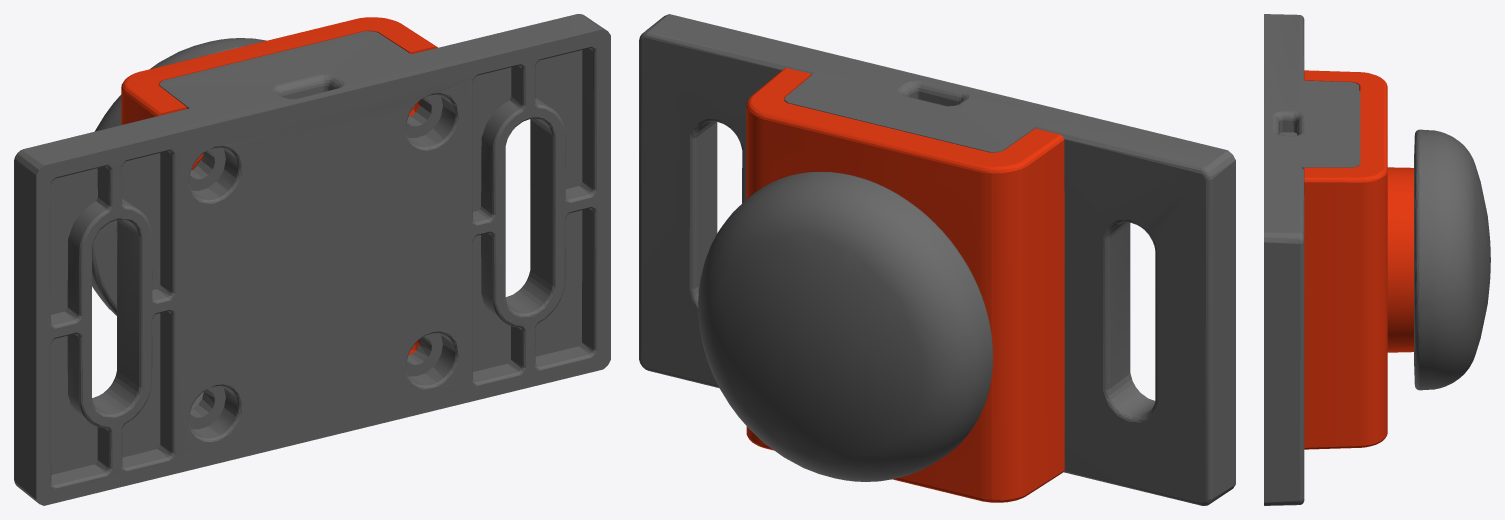
The model's file is Bumper_Switch__276-2159_.glb.
3 views of the same model, side by side, from view 1: azimuth 30°, elevation 25°; view 2: azimuth 150°, elevation 25°; view 3: azimuth 270°, elevation 25° (orthographic). The views are drawn at different scales.
Visible parts, largest first — view 1: Bumper Switch (276-2159); view 2: Bumper Switch (276-2159); view 3: Bumper Switch (276-2159).
Part boxes in pixels (bbox=[...]): Bumper Switch (276-2159): bbox=[14, 14, 610, 505]; Bumper Switch (276-2159): bbox=[639, 14, 1235, 505]; Bumper Switch (276-2159): bbox=[1264, 14, 1490, 505].
Bounding box in the file's own units: 2.08 × 1.18 × 0.8883.
